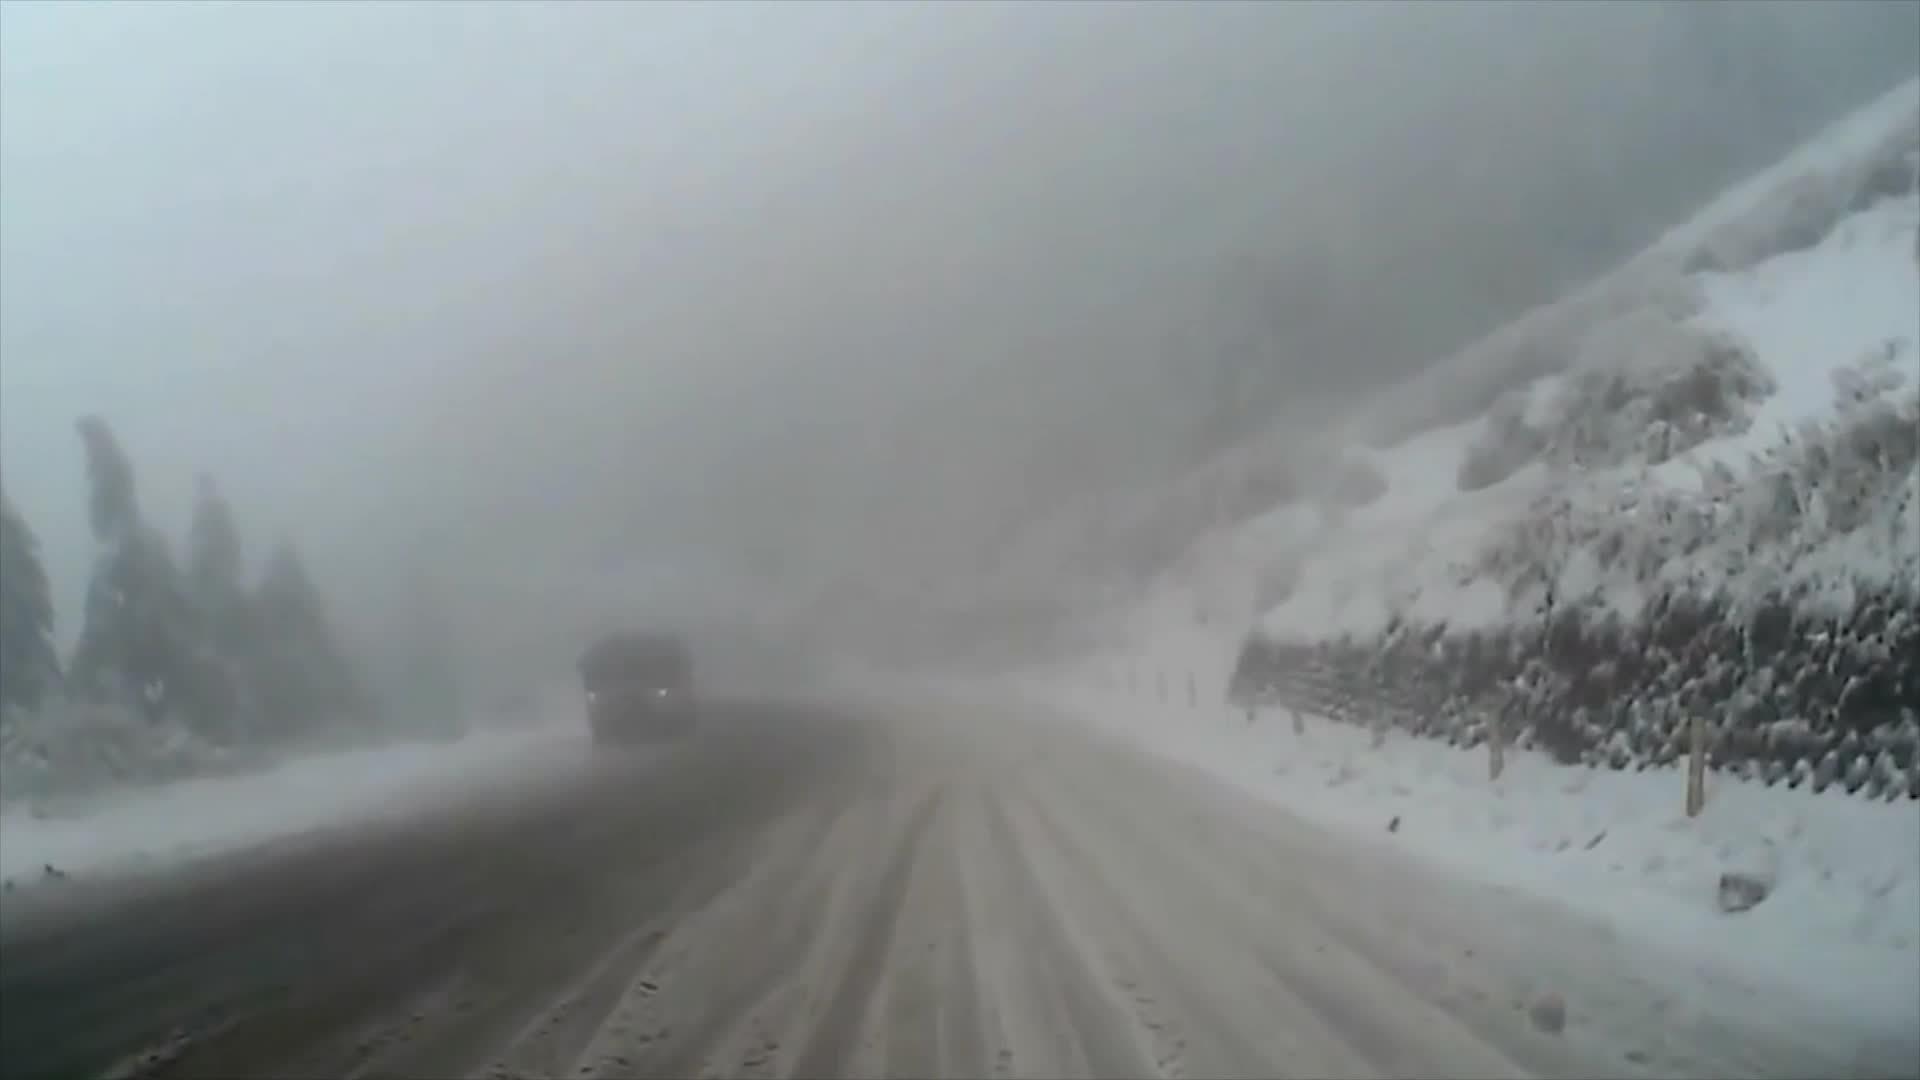vehicle: (574, 634, 694, 740)
